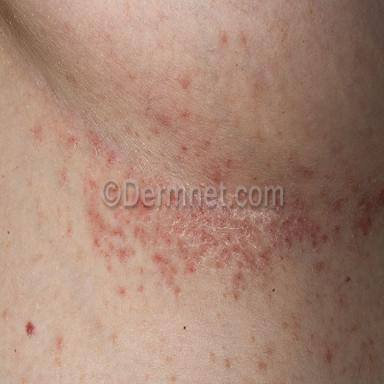Darier_s-Disease: (86, 198, 325, 300), (329, 178, 384, 231)
